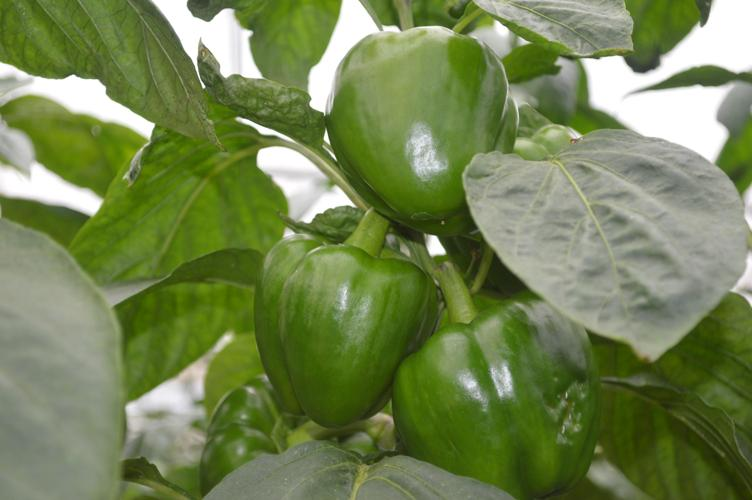BellPepper: (391, 307, 620, 500), (318, 28, 514, 220), (239, 239, 414, 445)
